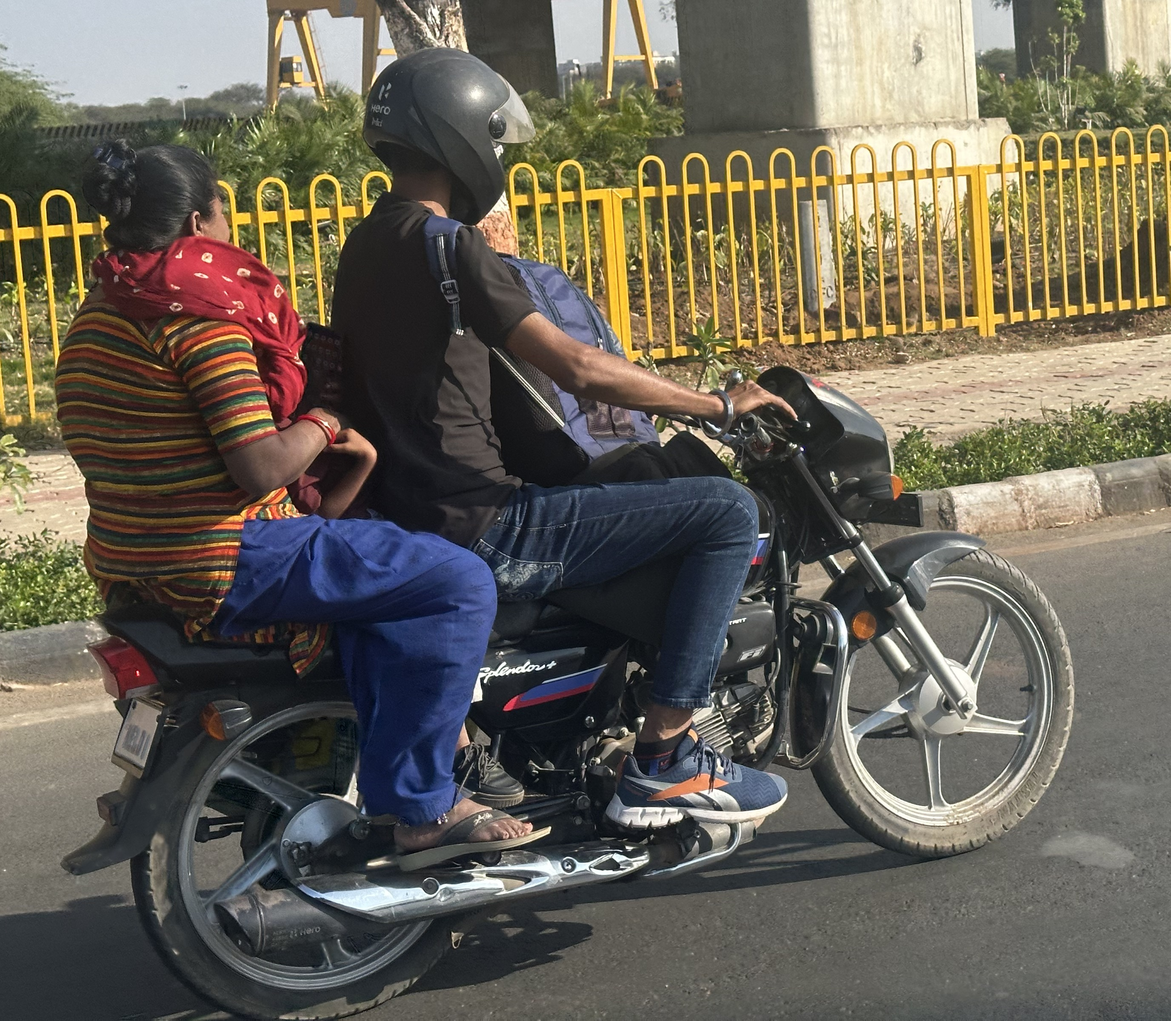BikeWithRider: (34, 36, 1095, 1021)
Helmet: (346, 37, 546, 234)
NoHelmet: (78, 132, 244, 267)
